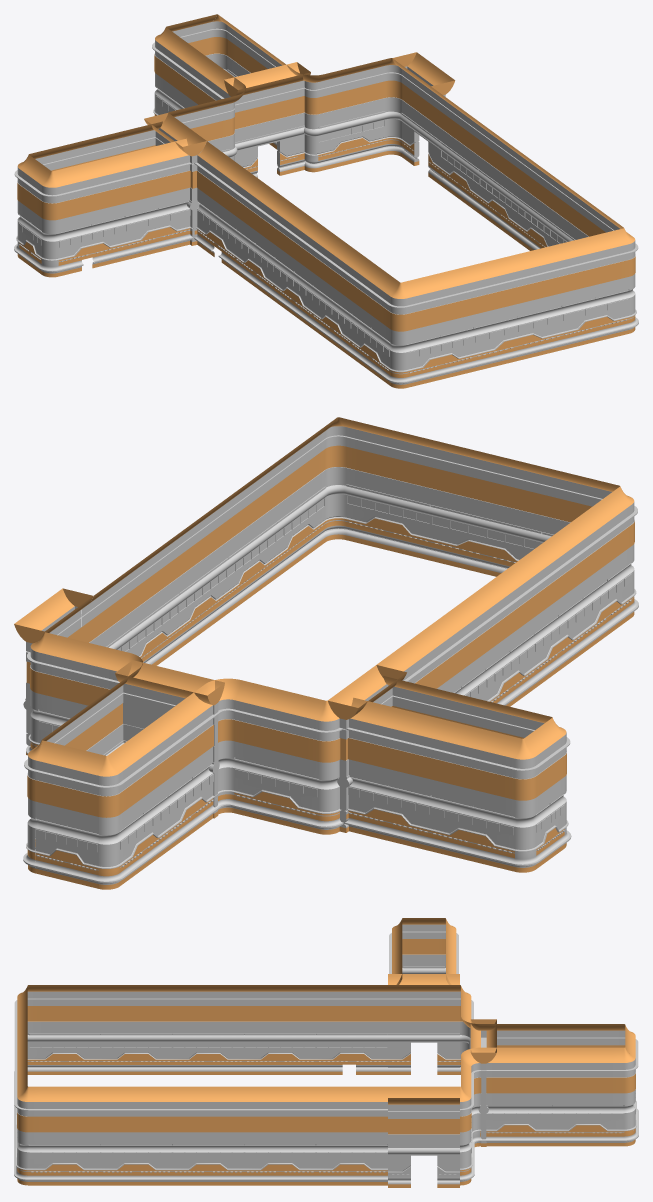
File: Walls.fbx
The picture shows the model from 3 angles, top to bottom: view 1: azimuth 30°, elevation 25°; view 2: azimuth 150°, elevation 25°; view 3: azimuth 270°, elevation 25°; orthographic projection. The views are drawn at different scales.
Visible parts, largest first — view 1: Wall.001; view 2: Wall.001; view 3: Wall.001.
Boxes of the visible parts, <box> form: Wall.001: <box>14,14,638,388</box>; Wall.001: <box>14,417,638,889</box>; Wall.001: <box>14,918,638,1187</box>.
Bounding box in the file's own units: 2473 × 586 × 3519.
